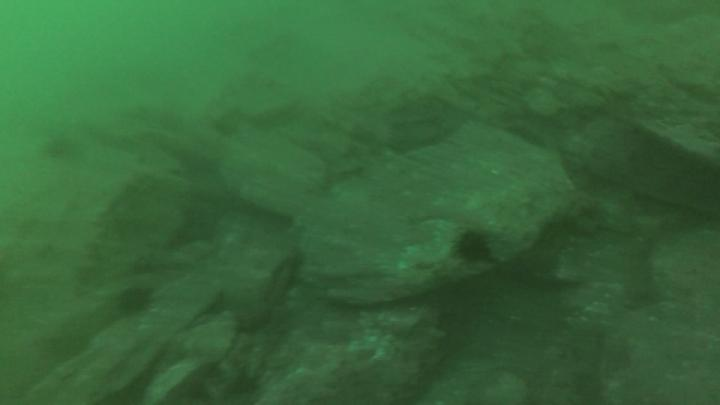echinus: (458, 235, 492, 263), (118, 288, 151, 315)
